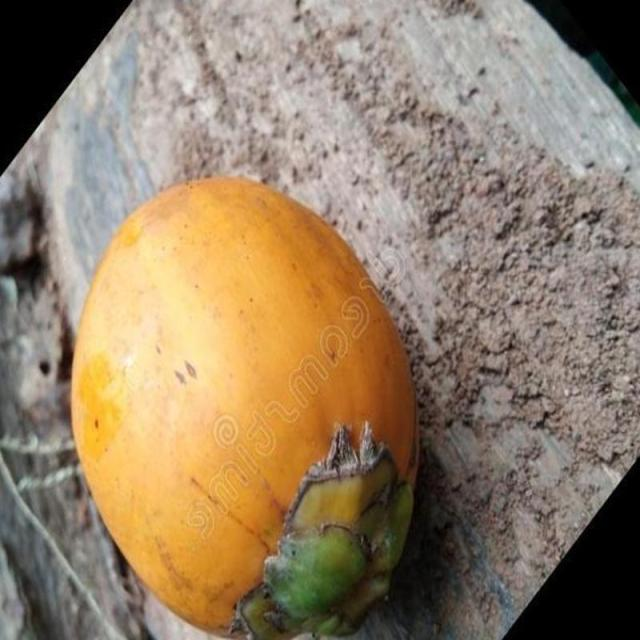good: (70, 177, 422, 639)
